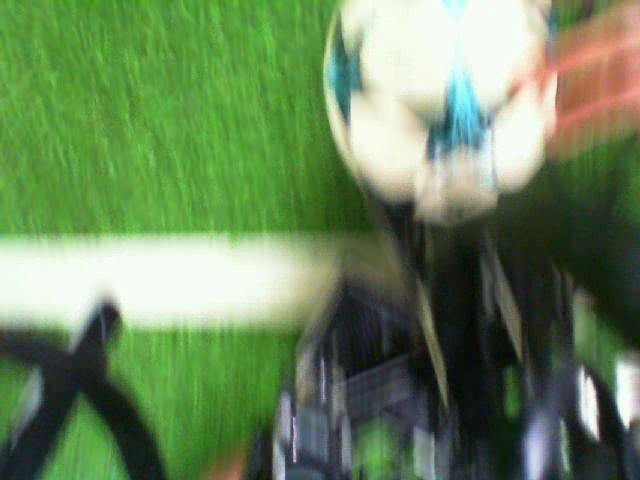ball: (320, 1, 560, 212)
